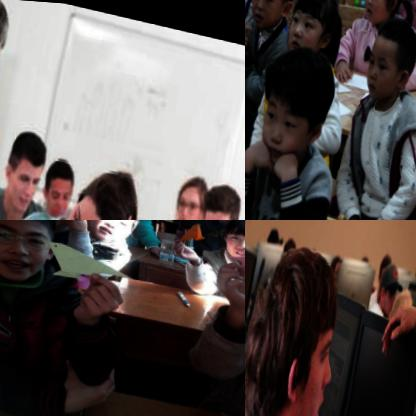head: (245, 239, 357, 416), (250, 41, 341, 169), (54, 145, 145, 220), (356, 5, 416, 113), (0, 220, 78, 292), (0, 122, 49, 213), (284, 0, 343, 61), (165, 160, 214, 220), (37, 151, 77, 220), (192, 168, 245, 220), (73, 220, 146, 251), (245, 0, 301, 35), (211, 220, 245, 261), (376, 261, 400, 314), (359, 0, 407, 25)
